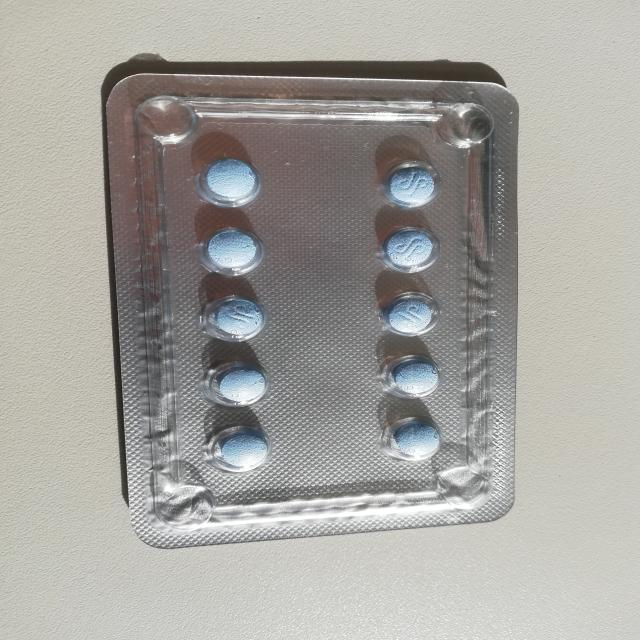Pill: (200, 361, 283, 411), (191, 156, 270, 208), (192, 221, 268, 275), (196, 294, 274, 344), (379, 418, 454, 465), (374, 224, 441, 276), (204, 429, 274, 478), (380, 161, 442, 211), (378, 294, 441, 340), (389, 360, 446, 402)
